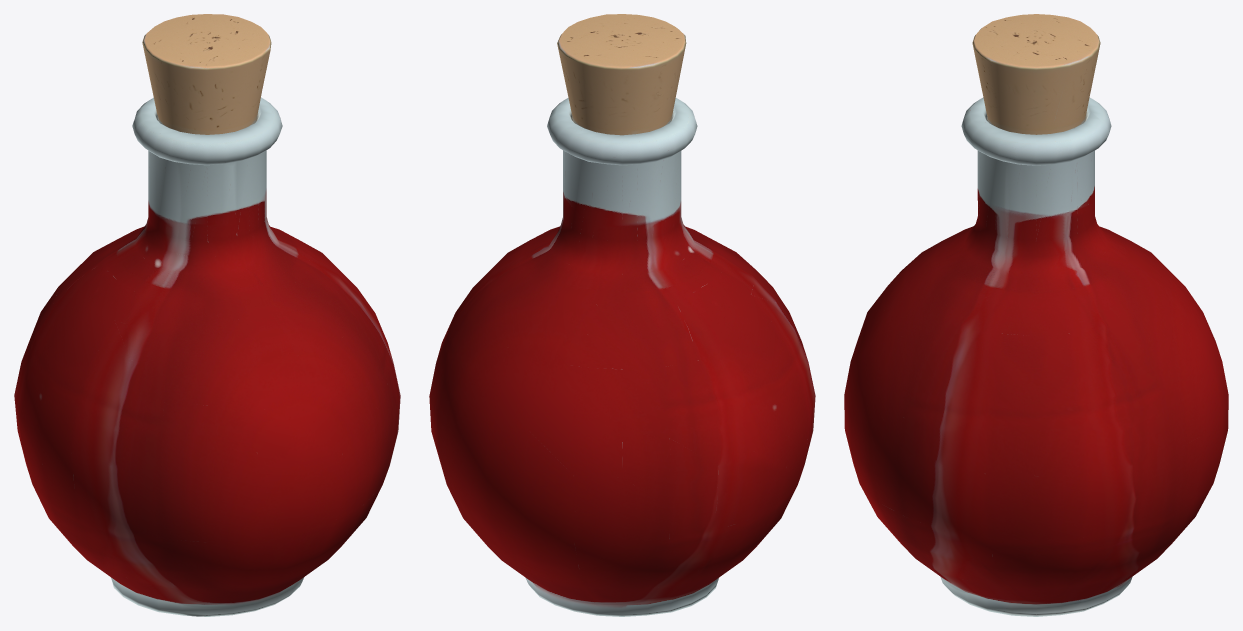
File: Potion.glb
3 views of the same model, side by side, from view 1: azimuth 30°, elevation 25°; view 2: azimuth 150°, elevation 25°; view 3: azimuth 270°, elevation 25° (orthographic).
Bounding box in the file's own units: 0.6167 × 0.9517 × 0.6167.
1 material, 1 textured.
